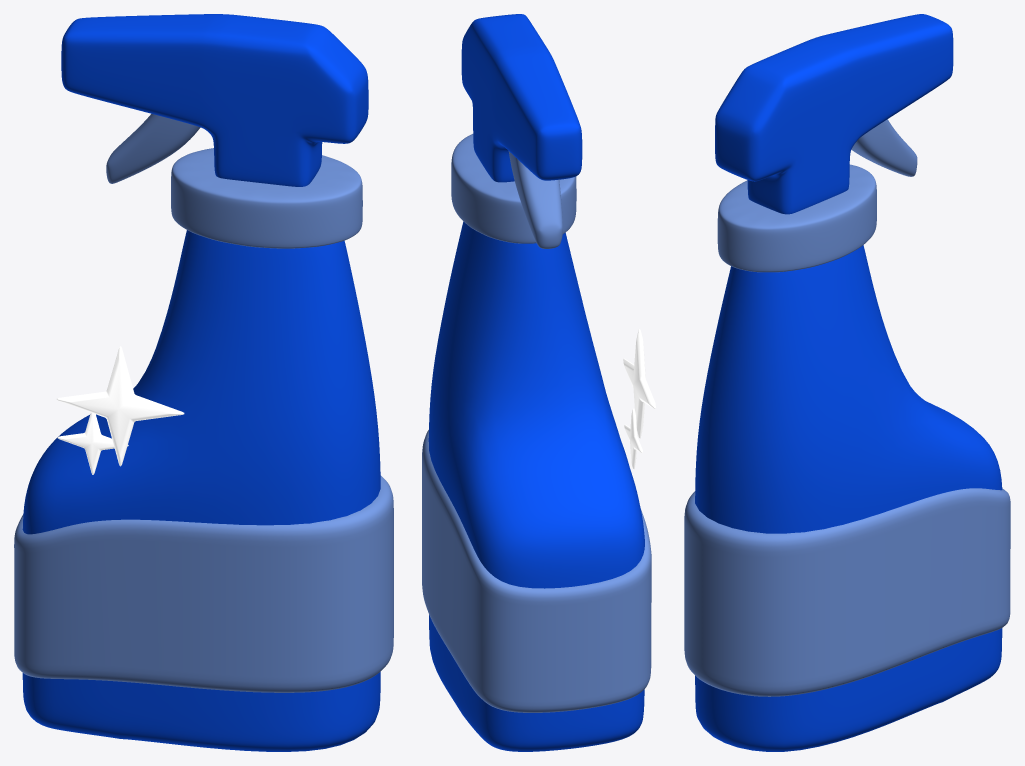
The model's file is 2. Detergent .gltf.
3 renders of one model, left to right at view 1: azimuth 30°, elevation 25°; view 2: azimuth 150°, elevation 25°; view 3: azimuth 270°, elevation 25°, orthographic. The views are drawn at different scales.
Parts seen in each view (by area): view 1: Cube, Cube.024, Plane.002, Cylinder, Plane.030, Cube.002; view 2: Cube, Cube.024, Plane.002, Cylinder, Cube.002, Plane.030; view 3: Cube, Cube.024, Plane.002, Cylinder, Cube.002.
Boxes of the visible parts, bbox=[...] form: Cube: bbox=[22, 230, 380, 751]; Cube.024: bbox=[14, 475, 393, 692]; Plane.002: bbox=[61, 14, 368, 186]; Cylinder: bbox=[171, 148, 362, 248]; Plane.030: bbox=[56, 346, 184, 474]; Cube.002: bbox=[106, 114, 200, 183]; Cube: bbox=[428, 221, 644, 751]; Cube.024: bbox=[422, 430, 651, 712]; Plane.002: bbox=[461, 14, 582, 182]; Cylinder: bbox=[451, 134, 576, 243]; Cube.002: bbox=[508, 151, 562, 248]; Plane.030: bbox=[623, 329, 655, 469]; Cube: bbox=[695, 245, 1002, 751]; Cube.024: bbox=[684, 488, 1010, 696]; Plane.002: bbox=[715, 14, 953, 214]; Cylinder: bbox=[717, 164, 876, 272]; Cube.002: bbox=[851, 119, 917, 176].
Bounding box in the file's own units: 2.13 × 4.76 × 2.13.
